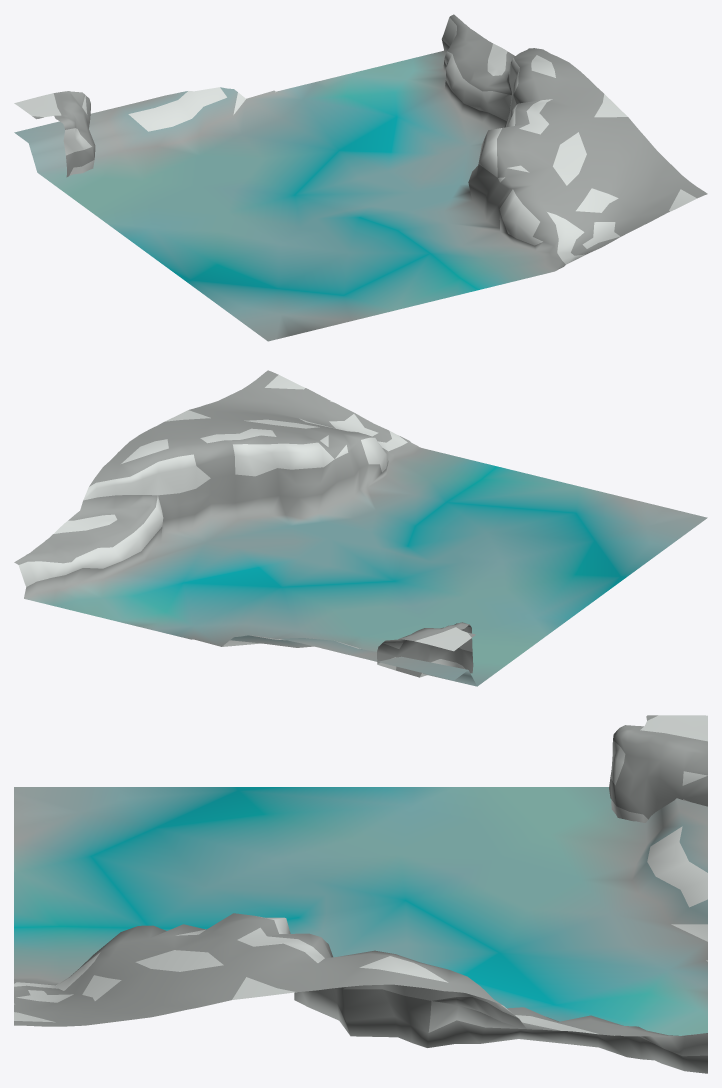
3 renders of one model, top to bottom at view 1: azimuth 30°, elevation 25°; view 2: azimuth 150°, elevation 25°; view 3: azimuth 270°, elevation 25°, orthographic. The views are drawn at different scales.
Parts seen in each view (by area): view 1: G:\FFXIV-MapTools\exports\n5f1\bg\ex4\01_nvt_n5\fld\n5f1\bgp (×15); view 2: G:\FFXIV-MapTools\exports\n5f1\bg\ex4\01_nvt_n5\fld\n5f1\bgp (×12); view 3: G:\FFXIV-MapTools\exports\n5f1\bg\ex4\01_nvt_n5\fld\n5f1\bgp (×15).
Part boxes in pixels (x1,y1,x2,y2): G:\FFXIV-MapTools\exports\n5f1\bg\ex4\01_nvt_n5\fld\n5f1\bgp (×15): [14, 14, 707, 341]; G:\FFXIV-MapTools\exports\n5f1\bg\ex4\01_nvt_n5\fld\n5f1\bgp (×12): [14, 370, 707, 686]; G:\FFXIV-MapTools\exports\n5f1\bg\ex4\01_nvt_n5\fld\n5f1\bgp (×15): [14, 715, 707, 1073].
Size of the model in its own units: 128 by 21.21 by 128.
